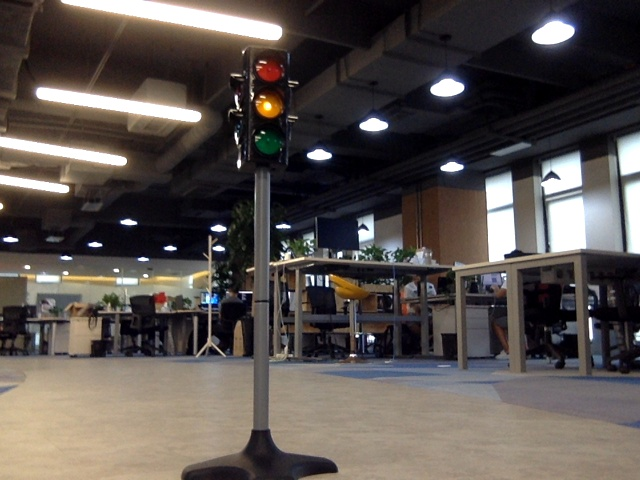yellow: (246, 59, 288, 158)
